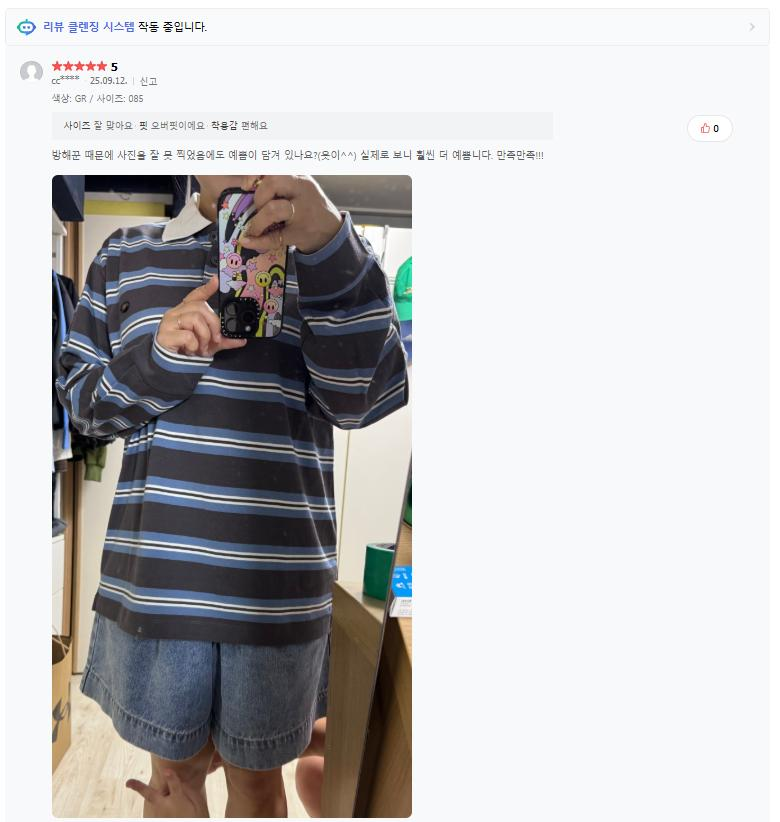button: (7, 8, 769, 46), (688, 112, 732, 143)
